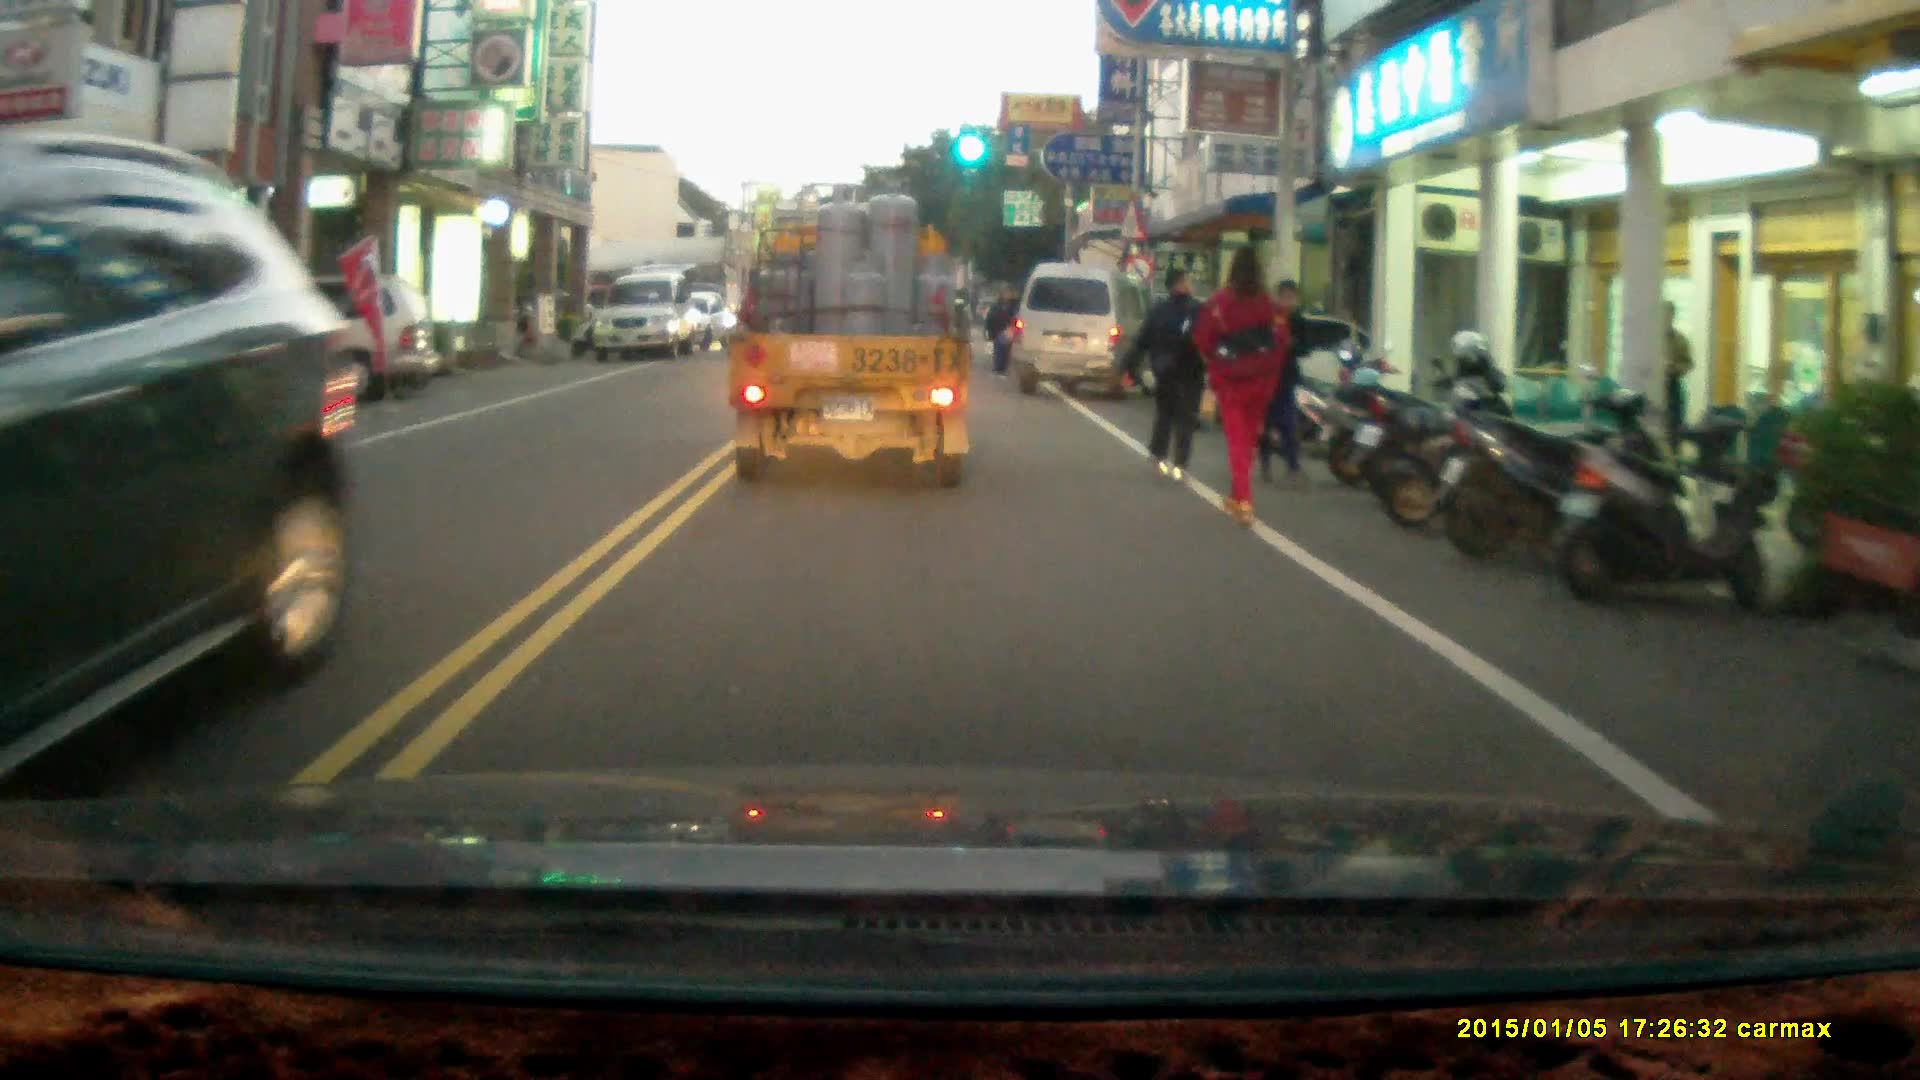pedestrian: (1198, 240, 1287, 535), (1126, 264, 1212, 484), (1256, 274, 1314, 487), (1652, 298, 1695, 466), (985, 289, 1019, 379)
vehicle: (1, 125, 366, 792), (720, 186, 979, 505), (153, 290, 435, 416), (1016, 261, 1155, 401), (596, 270, 708, 359)
